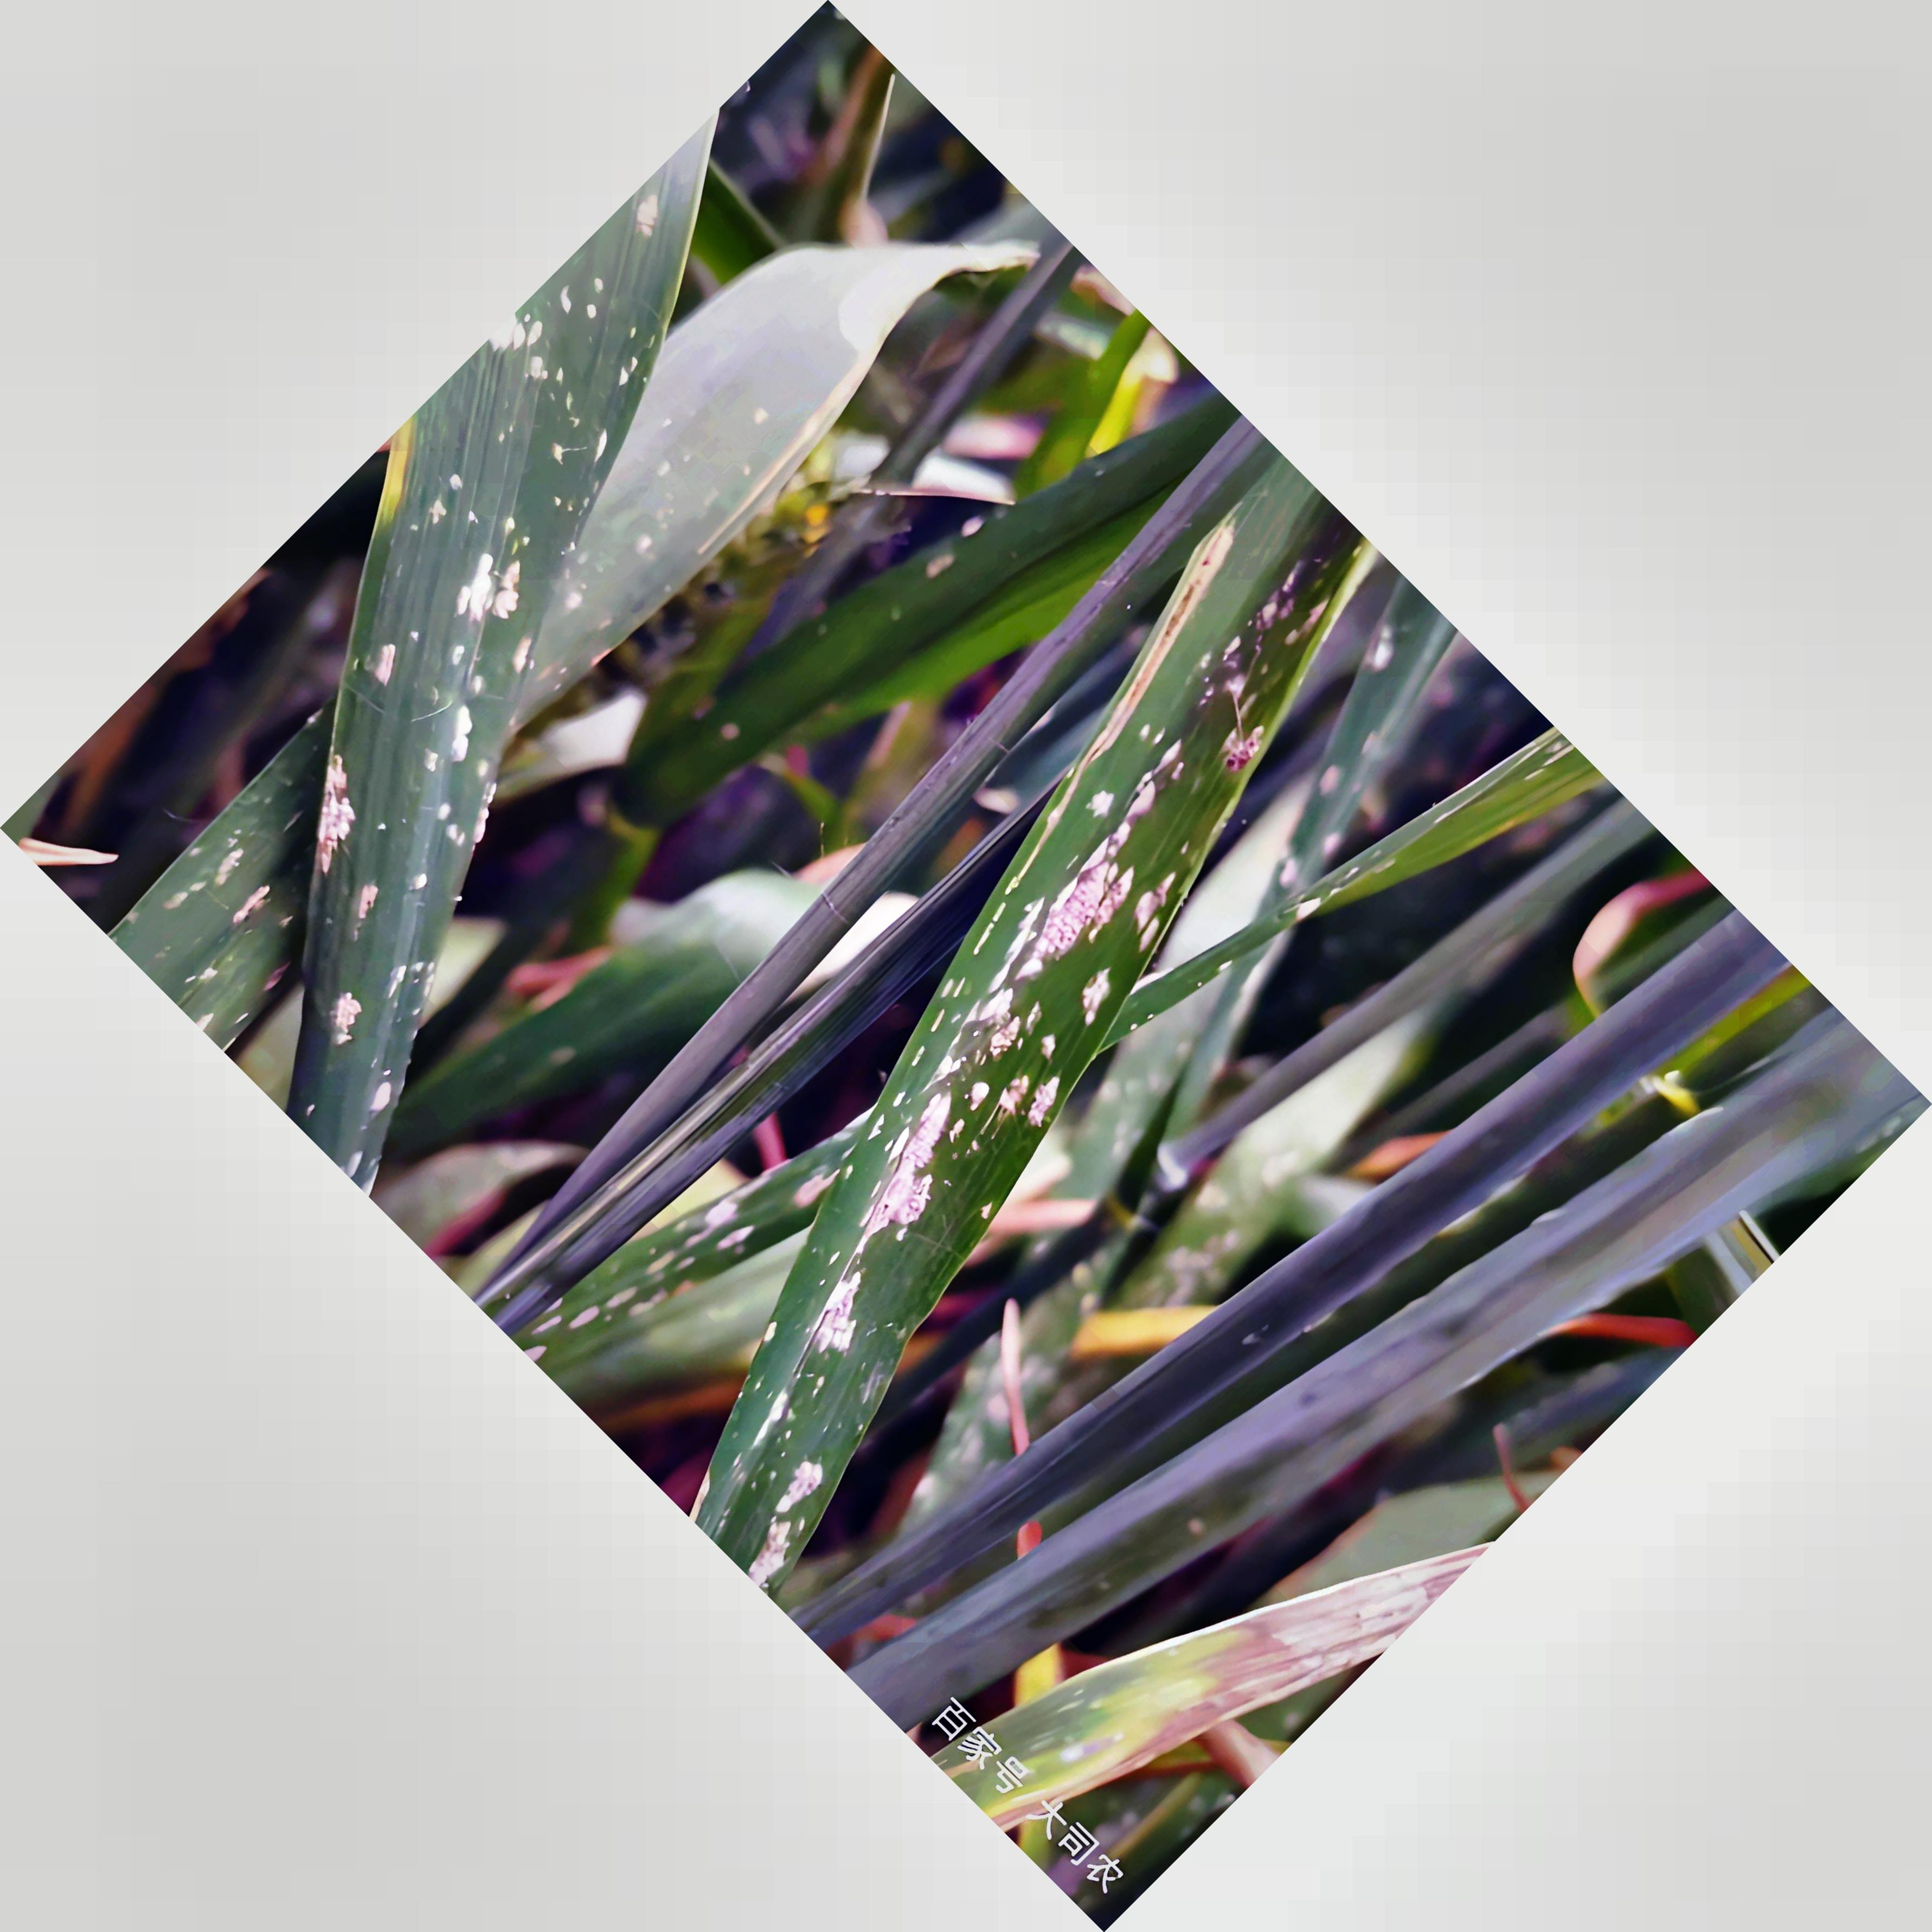Powdery Mildew: (754, 644, 1302, 1442), (272, 366, 609, 1100)
